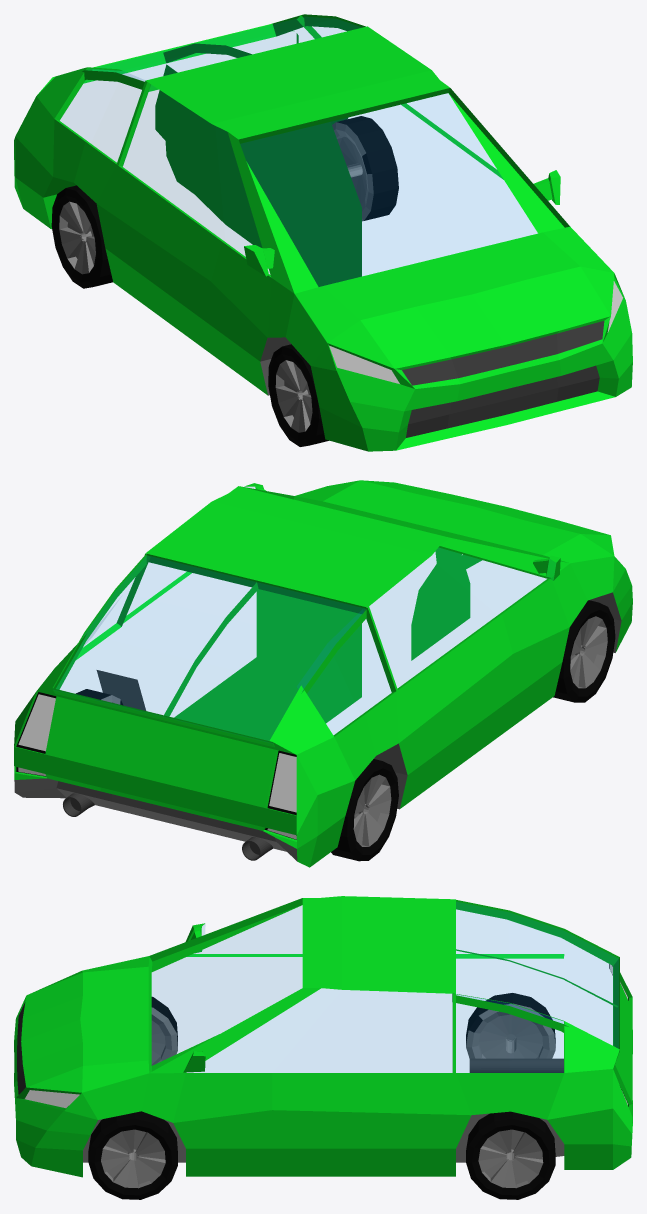
The model's file is car.glb.
3 renders of one model, top to bottom at view 1: azimuth 30°, elevation 25°; view 2: azimuth 150°, elevation 25°; view 3: azimuth 270°, elevation 25°, orthographic. The views are drawn at different scales.
Visible parts, largest first — view 1: Low Ploy Car; view 2: Low Ploy Car; view 3: Low Ploy Car.
Part boxes in pixels (<box>): Low Ploy Car: <box>14,14,632,451</box>; Low Ploy Car: <box>14,480,632,867</box>; Low Ploy Car: <box>14,896,632,1199</box>.
Size of the model in its own units: 558 by 380 by 1098.
